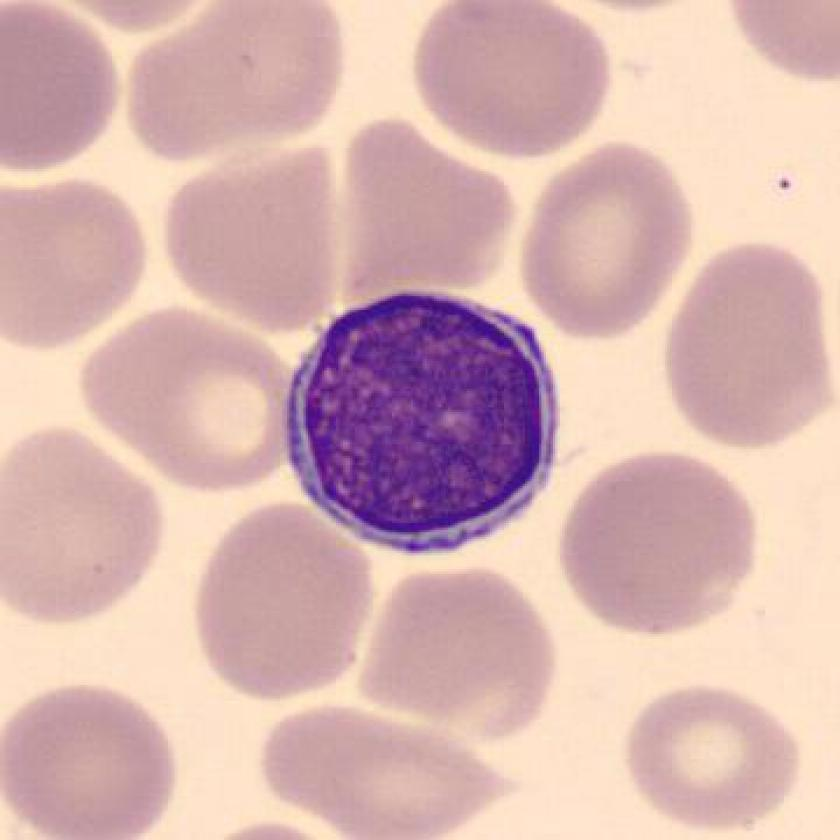lymphocyte: (262, 283, 573, 573)
